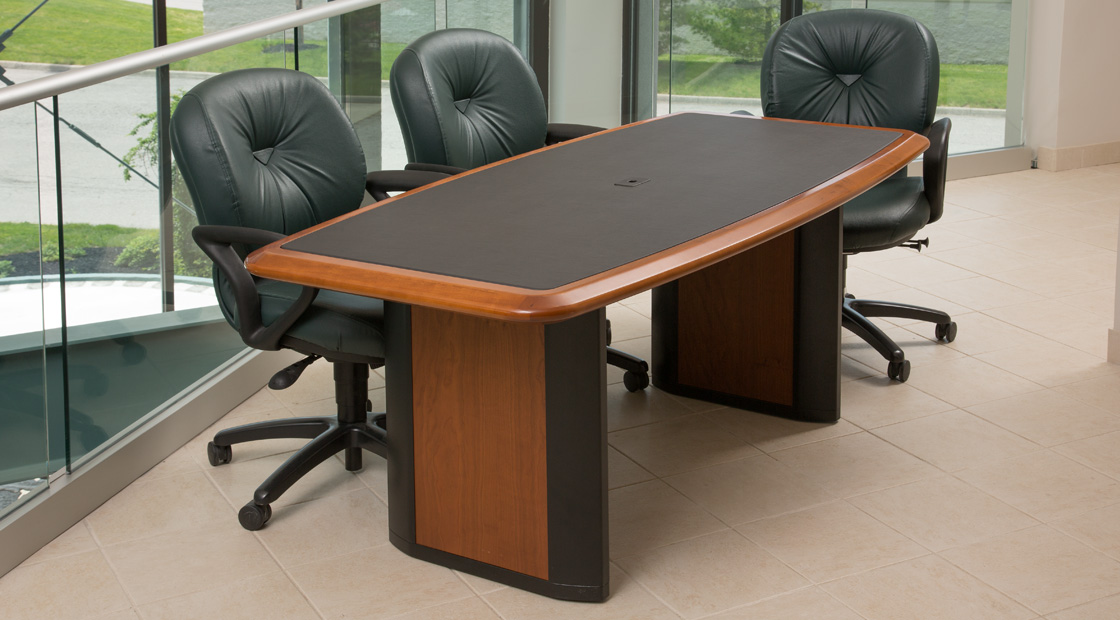conference_table: (247, 113, 930, 603)
